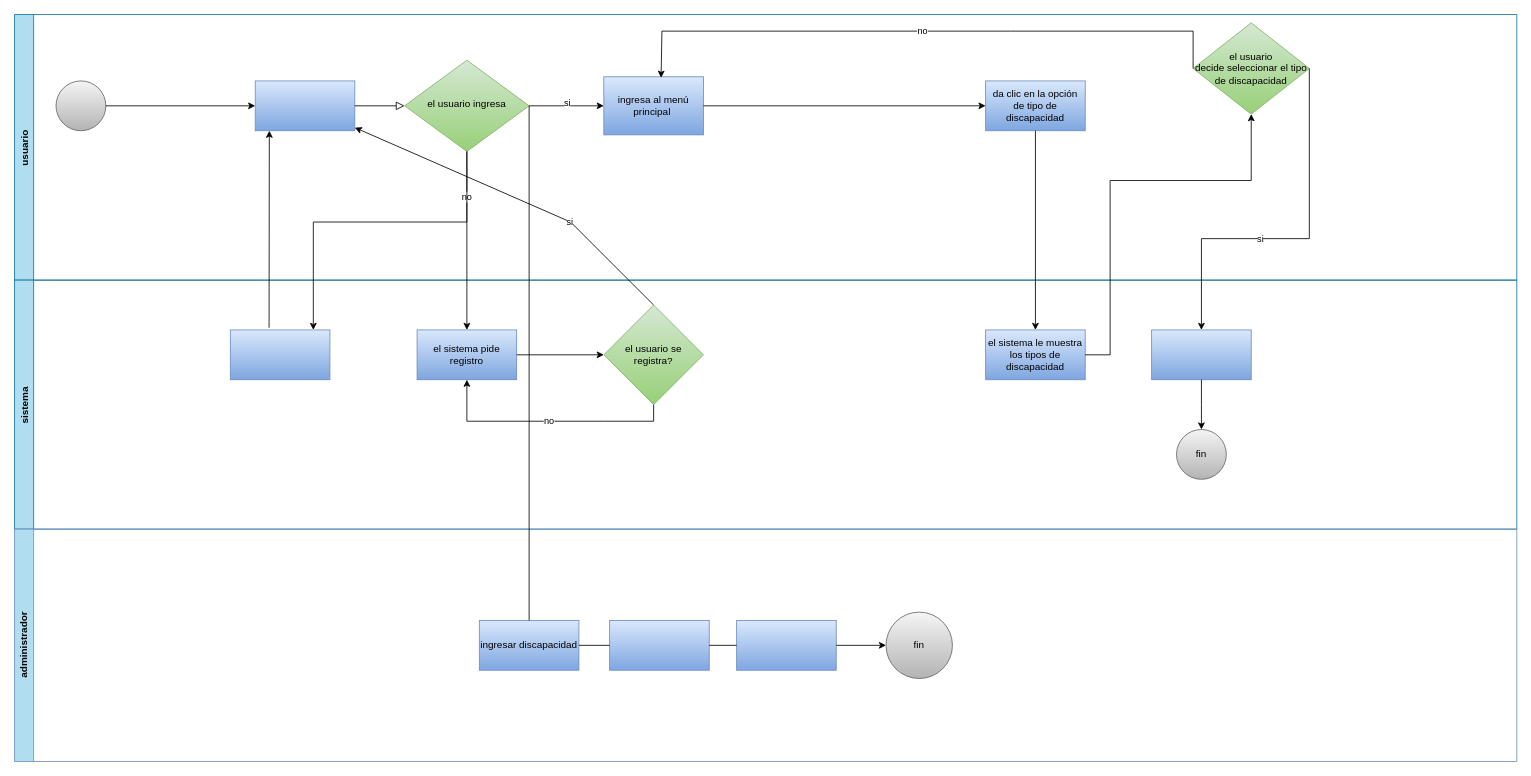
Some shapes in this 1531 by 776 pixel diagram are drawn without their labels. The centre of each missing label's shape, as x and y in pixels:
"el sistema muestra el contenido de la opción seleccionada" belongs at (1201,354).
"ingresar notificaciones" belongs at (786,645).
"ingresar rutinas" belongs at (659,645).
"inicio" belongs at (80,105).
"Login de usuario" belongs at (304,105).
"usuario o contraseña incorrecta" belongs at (279,354).
